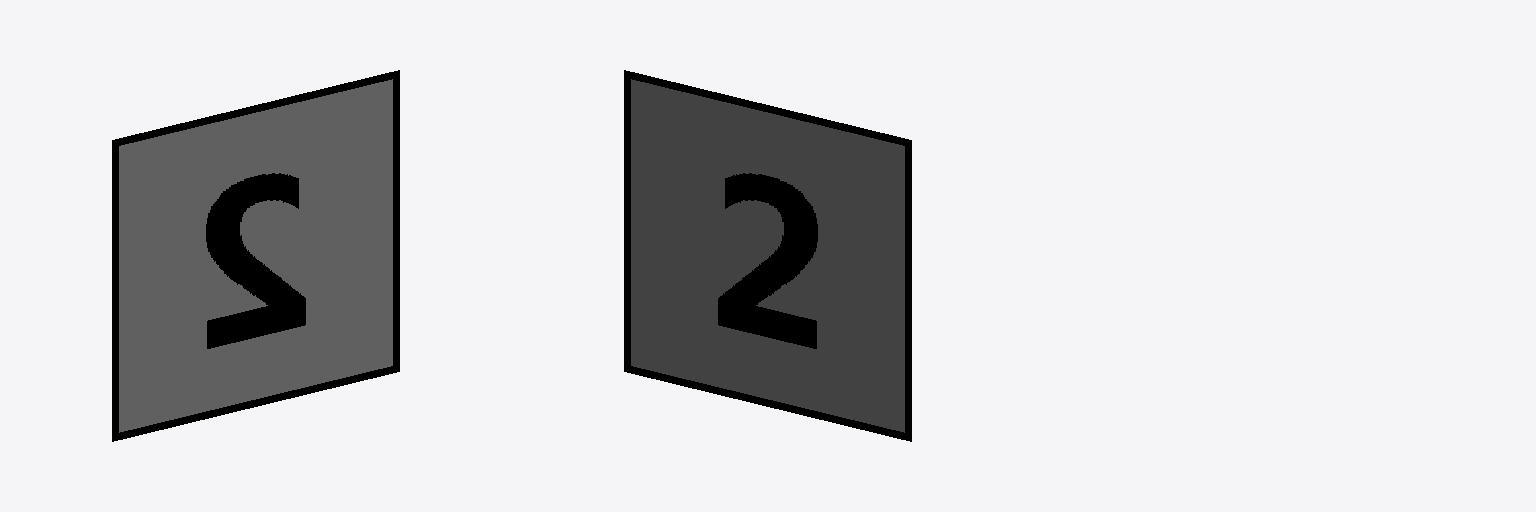
The picture shows the model from 3 angles: view 1: azimuth 30°, elevation 25°; view 2: azimuth 150°, elevation 25°; view 3: azimuth 270°, elevation 25°; orthographic projection.
Visible parts, largest first — view 1: 平面.001; view 2: 平面.001; view 3: none.
Part boxes in pixels (left/top/right/bottom): 平面.001: left=112, top=70, right=399, bottom=441; 平面.001: left=624, top=70, right=911, bottom=441.
Bounding box in the file's own units: 2 × 2 × 0.
1 materials, 1 textured.